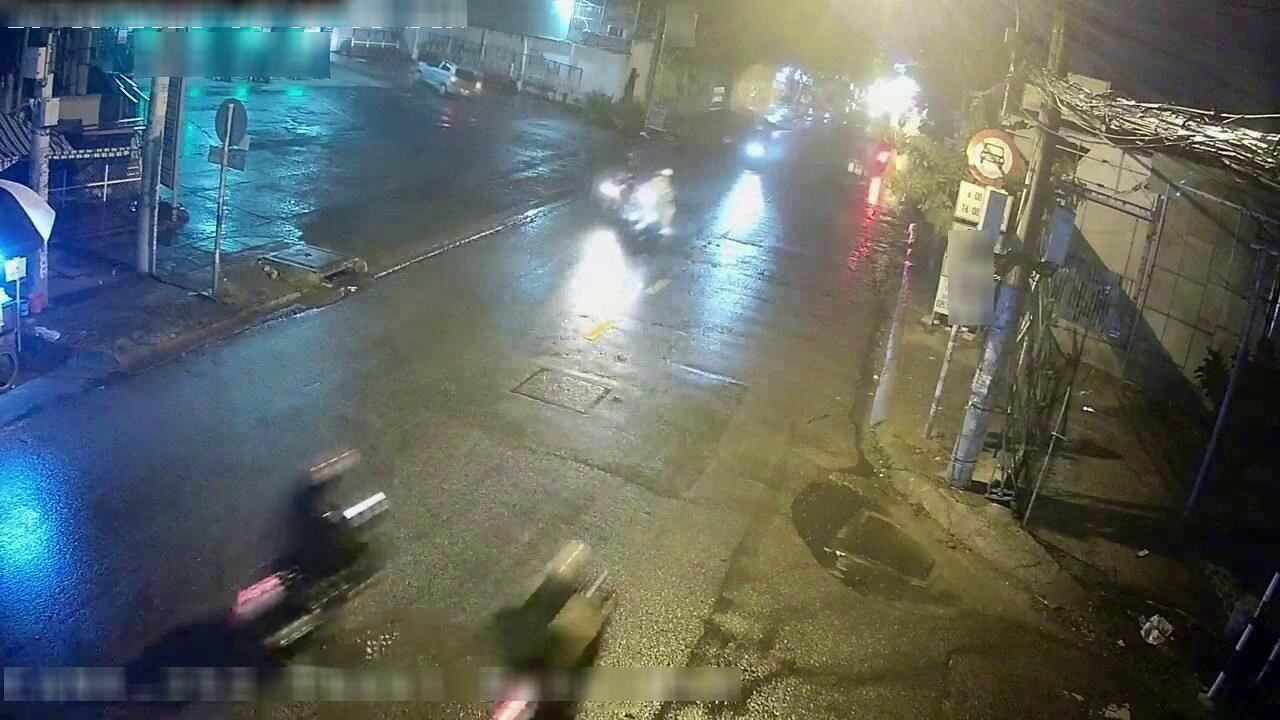Car: (417, 58, 482, 97)
Motorcyclist: (229, 450, 387, 657), (490, 541, 614, 719), (624, 168, 676, 238), (593, 152, 637, 215), (737, 127, 773, 172), (867, 133, 896, 176)
Sign: (215, 98, 247, 147)
